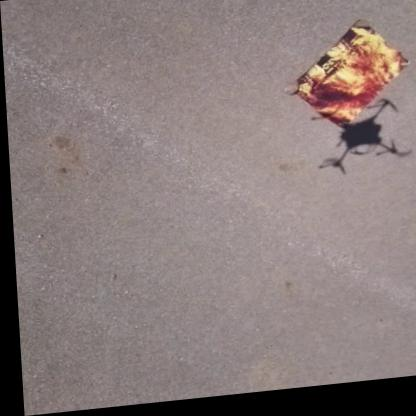fire-poster: (278, 21, 413, 140)
